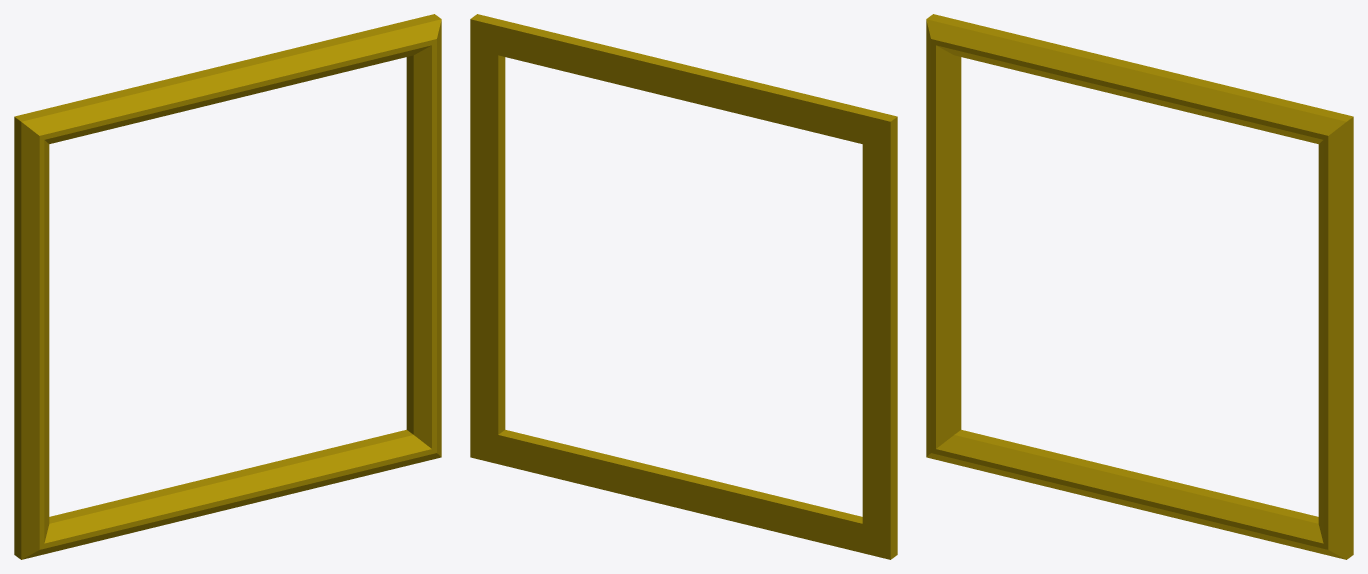
File: gold_frame.glb
The picture shows the model from 3 angles, left to right: view 1: azimuth 30°, elevation 25°; view 2: azimuth 150°, elevation 25°; view 3: azimuth 330°, elevation 25°; orthographic projection.
Parts seen in each view (by area): view 1: Cube; view 2: Cube; view 3: Cube.
Part boxes in pixels (bbox=[...]): Cube: bbox=[14, 14, 441, 559]; Cube: bbox=[470, 14, 897, 559]; Cube: bbox=[926, 14, 1353, 559].
Size of the model in its own units: 6.02 by 6 by 0.3417.
